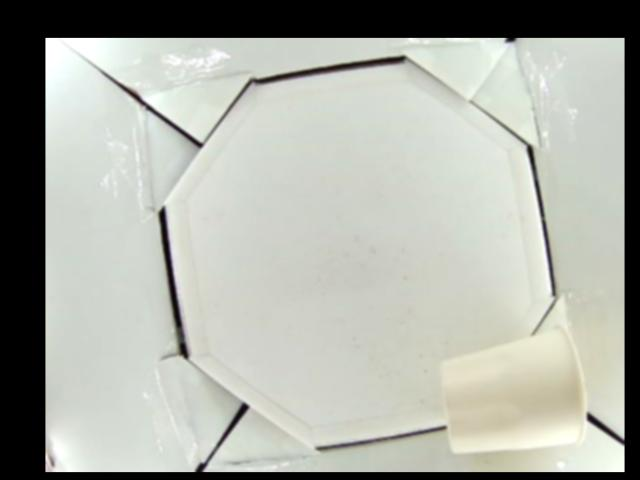Cup: (437, 326, 589, 453)
